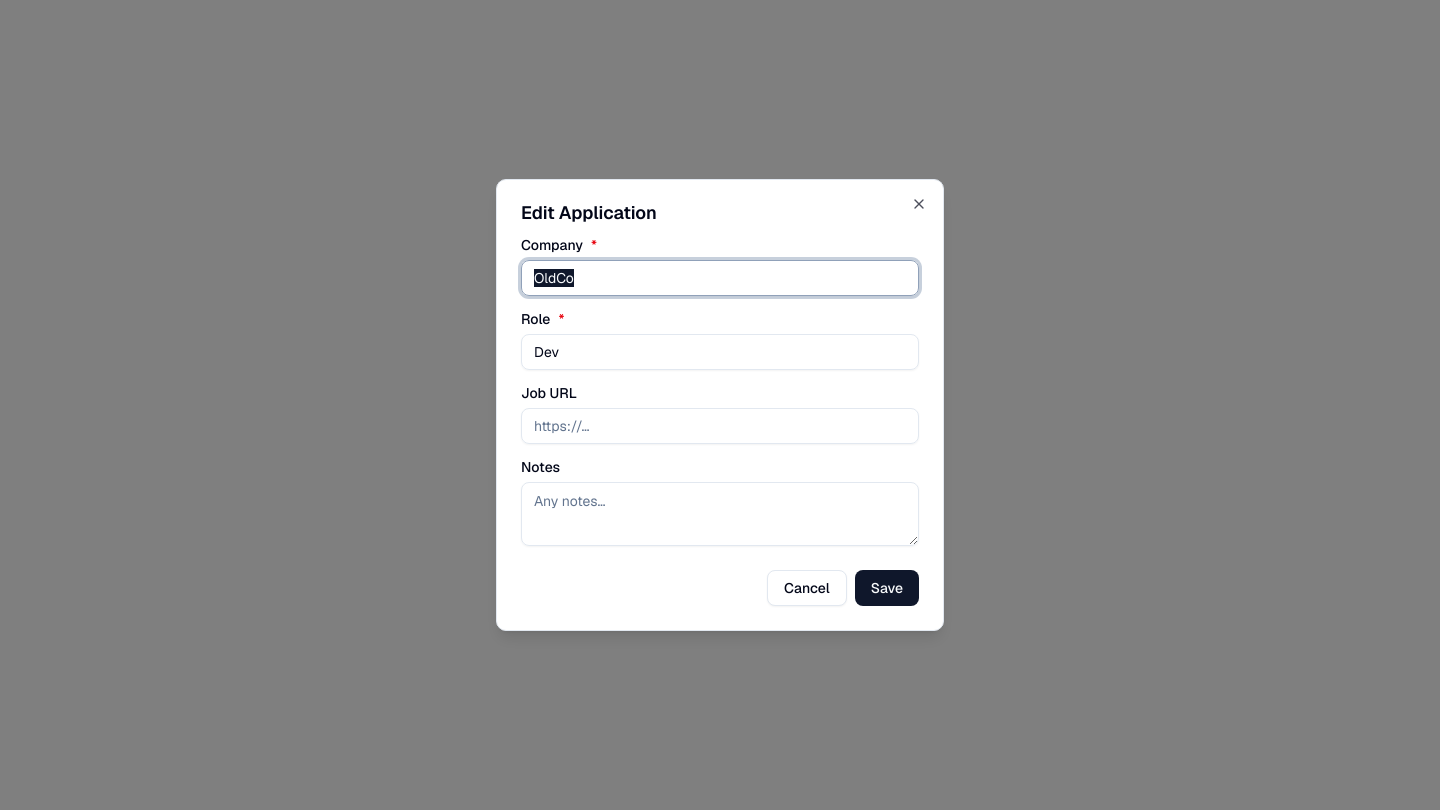
Test case: EditApplicationDialog › shows a pending label while an edit request is in flight
Replace the text in the field labelled "Company *" with "NewCo" at (720, 278), box [521,260,919,296]
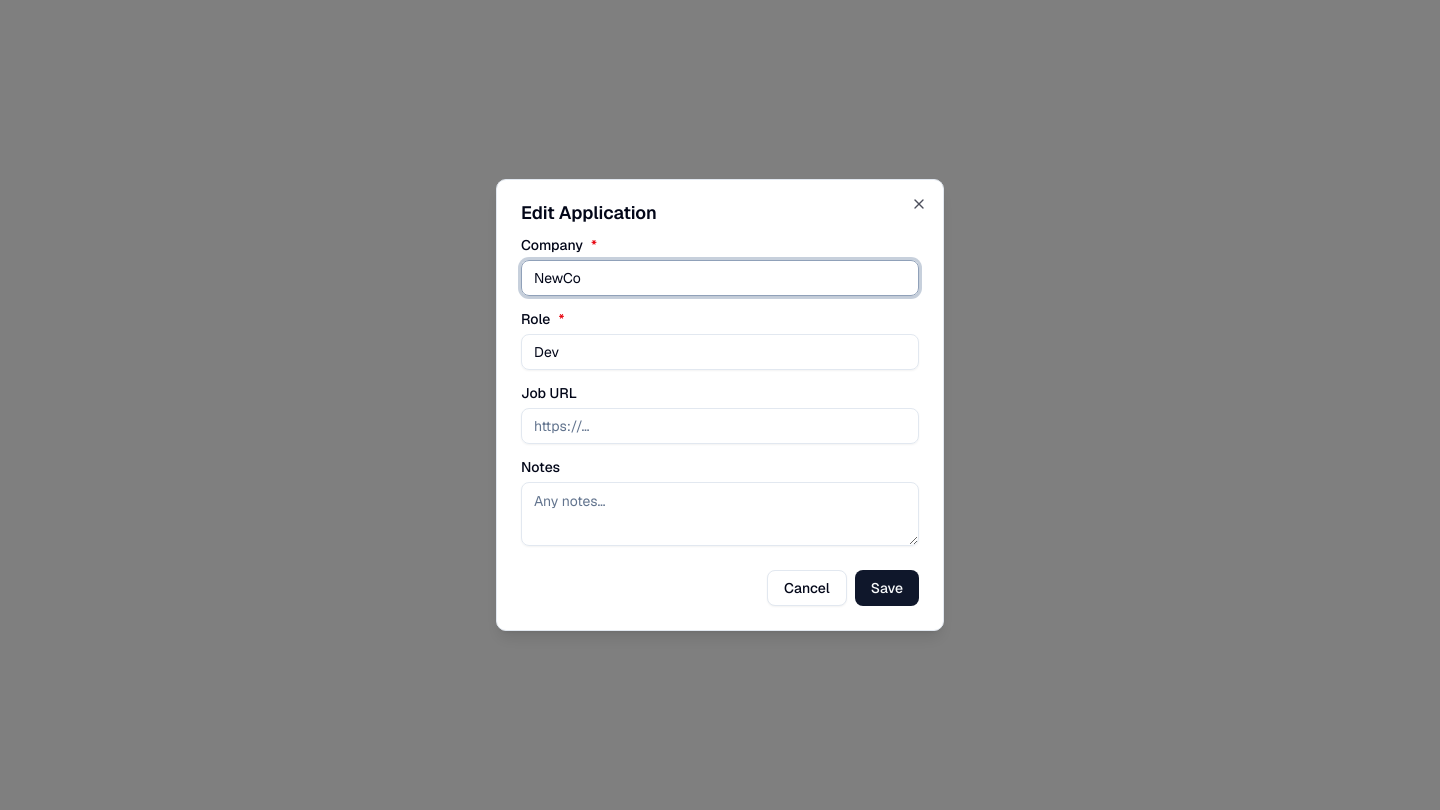
Click the button "Save" at (887, 588), box [855,570,919,606]
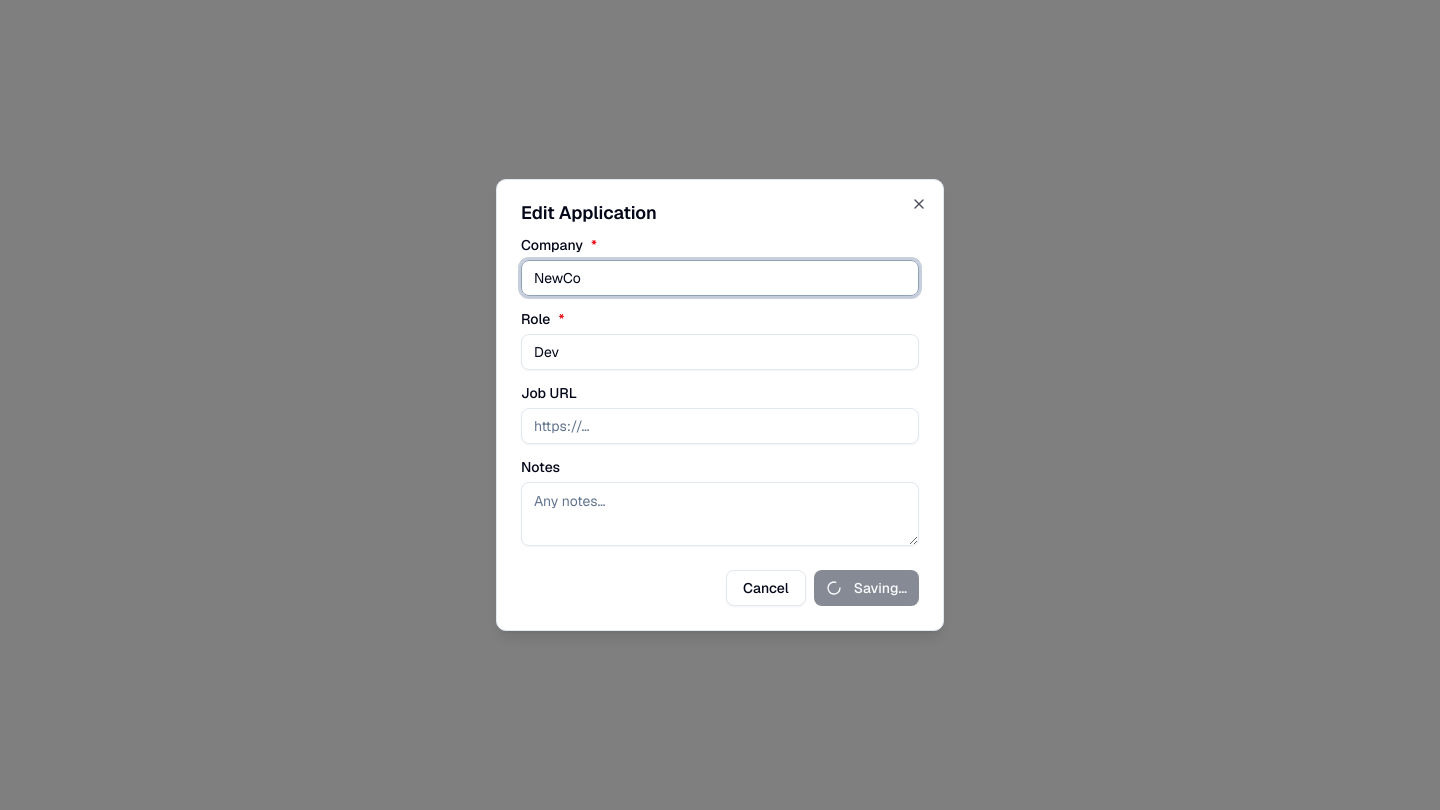
Expected: the button "Saving…" is shown, [814,570,919,606]
